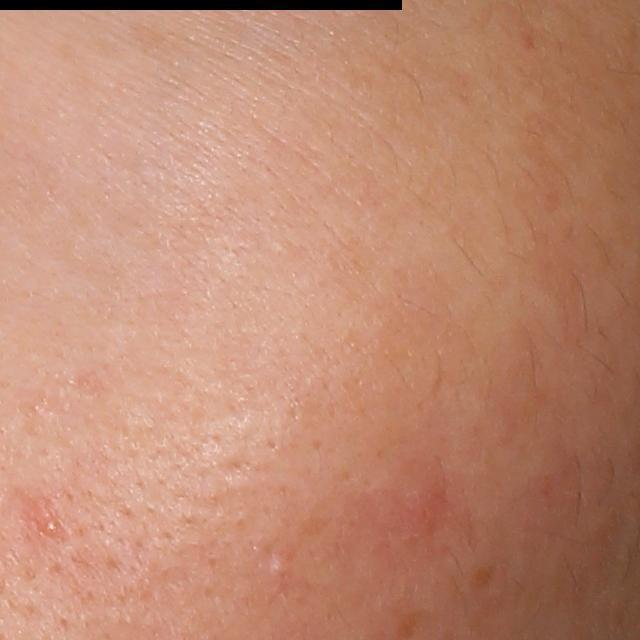comedo: (266, 556, 291, 579)
